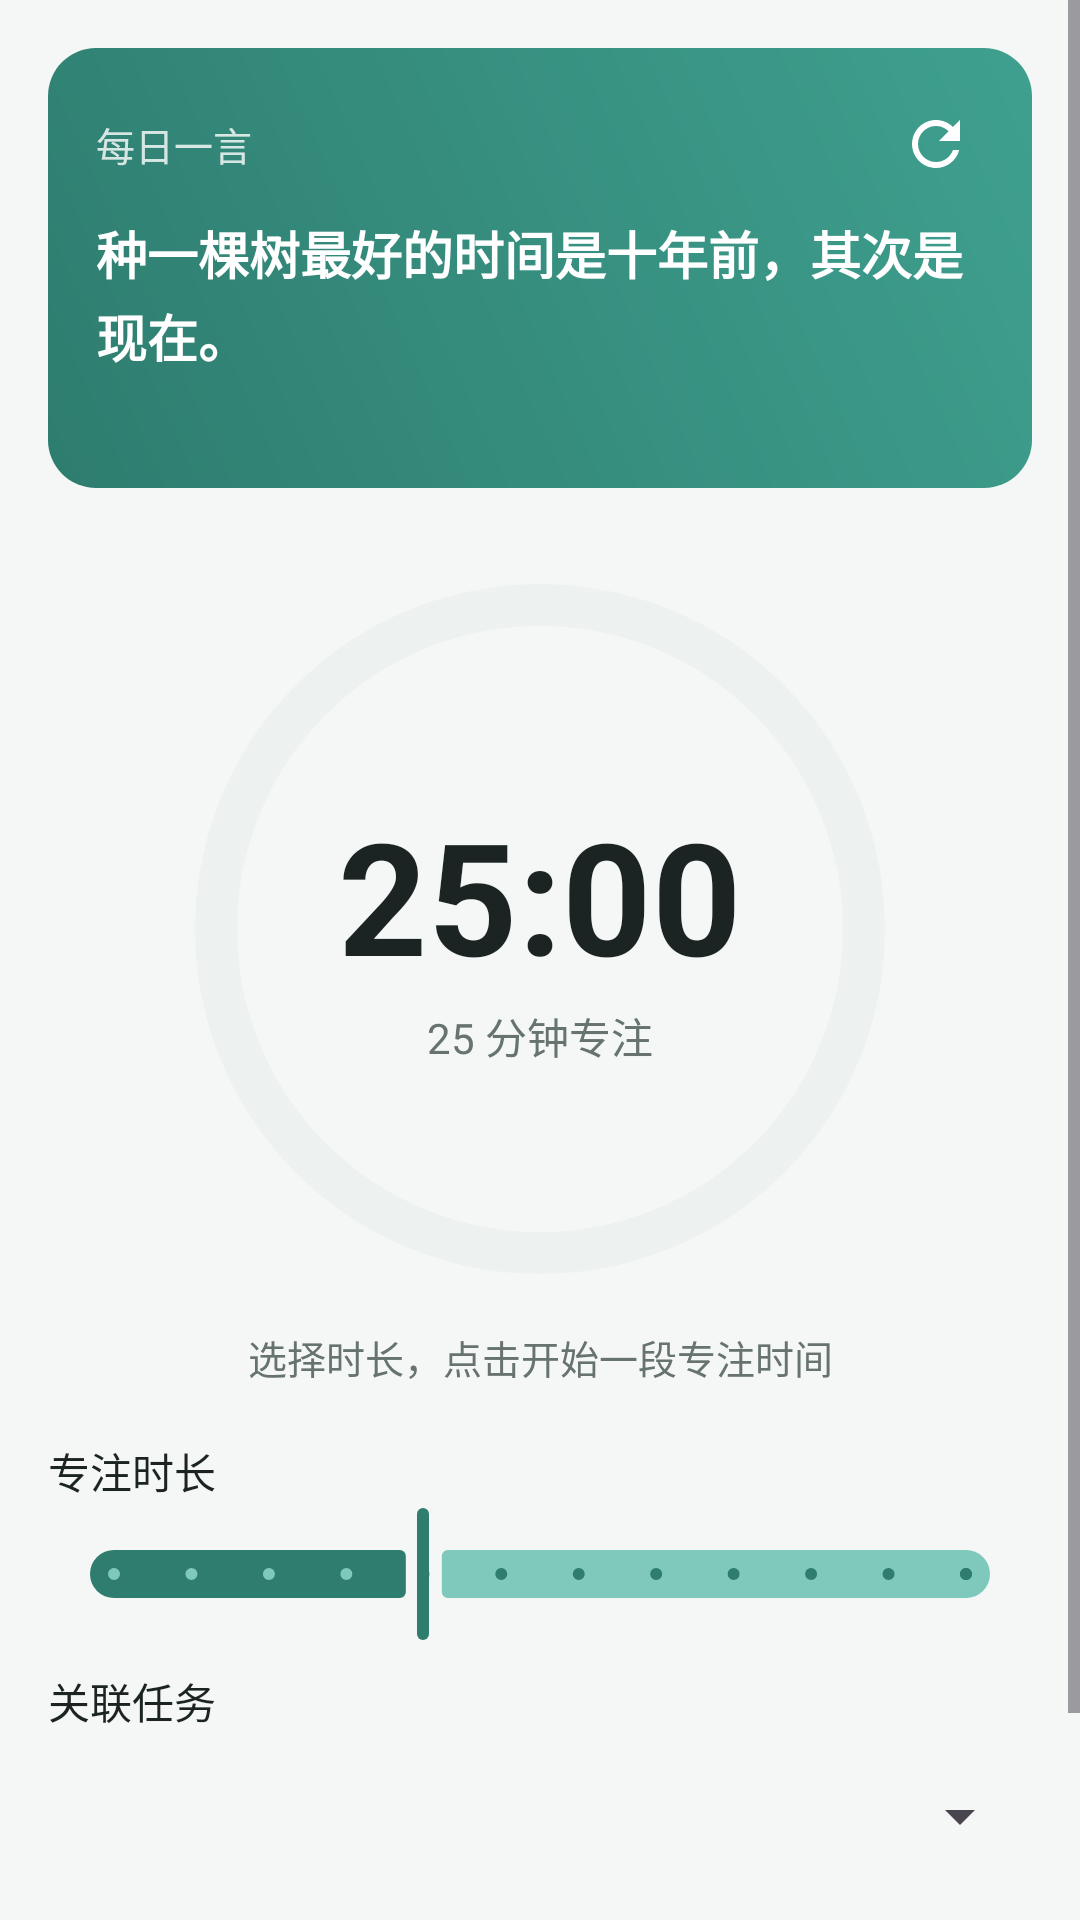

Icons on this 1080x1920 Android screen, each with the point to tap as point (x, y):
换一句: point (936, 144)
